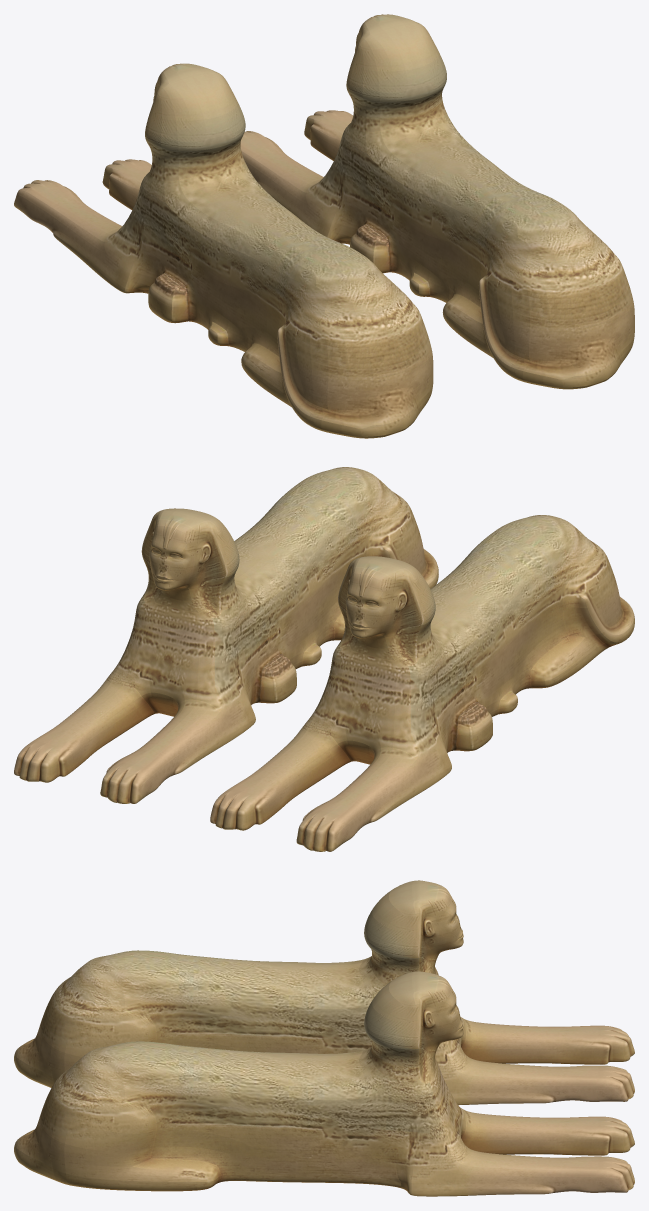
Rendered from Estatua.obj.
The picture shows the model from 3 angles, top to bottom: view 1: azimuth 30°, elevation 25°; view 2: azimuth 150°, elevation 25°; view 3: azimuth 270°, elevation 25°; orthographic projection. The views are drawn at different scales.
Parts seen in each view (by area): view 1: 10085_egypt_sphinx_iterations-2.001, 10085_egypt_sphinx_iterations-2; view 2: 10085_egypt_sphinx_iterations-2.001, 10085_egypt_sphinx_iterations-2; view 3: 10085_egypt_sphinx_iterations-2, 10085_egypt_sphinx_iterations-2.001.
Part boxes in pixels (left/top/right/bottom): 10085_egypt_sphinx_iterations-2.001: left=14, top=63, right=433, bottom=438; 10085_egypt_sphinx_iterations-2: left=240, top=14, right=634, bottom=389; 10085_egypt_sphinx_iterations-2.001: left=210, top=515, right=634, bottom=851; 10085_egypt_sphinx_iterations-2: left=14, top=467, right=438, bottom=803; 10085_egypt_sphinx_iterations-2: left=14, top=971, right=634, bottom=1196; 10085_egypt_sphinx_iterations-2.001: left=14, top=880, right=634, bottom=1105.
Bounding box in the file's own units: 7.7 × 4.35 × 13.06.
